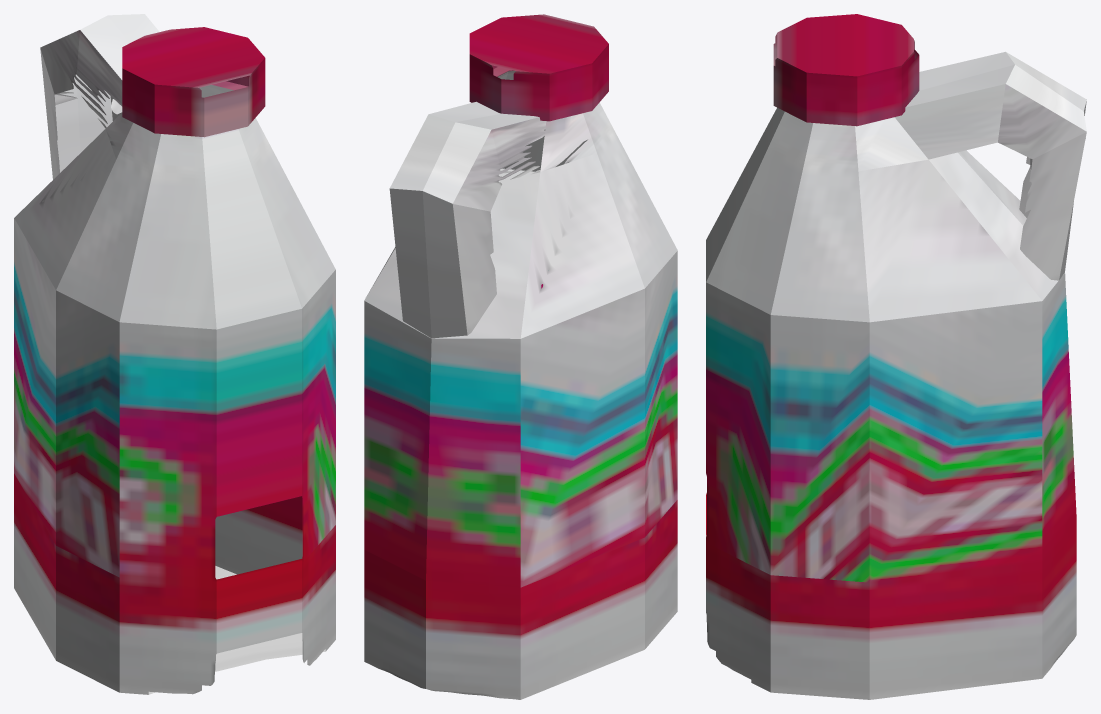
File: Clorox.fbx
The picture shows the model from 3 angles, left to right: view 1: azimuth 30°, elevation 25°; view 2: azimuth 150°, elevation 25°; view 3: azimuth 270°, elevation 25°; orthographic projection. The views are drawn at different scales.
Visible parts, largest first — view 1: Cylinder; view 2: Cylinder; view 3: Cylinder.
Part boxes in pixels (x1=…): Cylinder: x1=14, y1=14, x2=335, y2=694; Cylinder: x1=364, y1=14, x2=677, y2=699; Cylinder: x1=706, y1=14, x2=1086, y2=699.
Size of the model in its own units: 91.13 by 206 by 120.
Materials: 1 (1 with a texture image).
